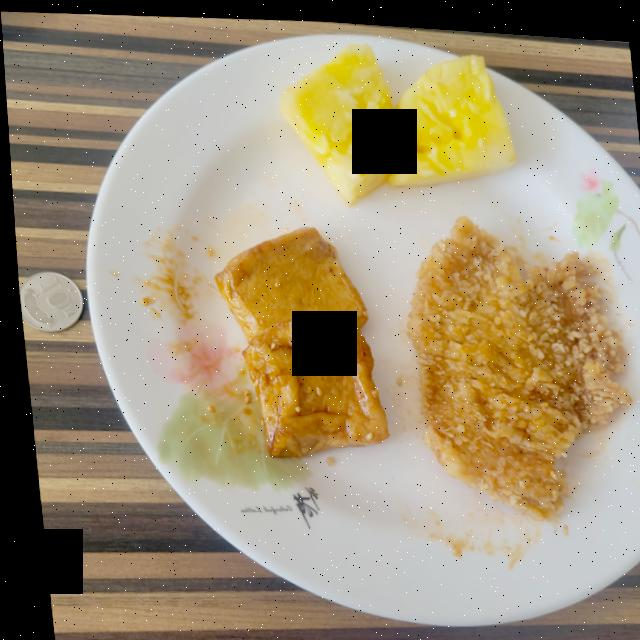coin: (15, 271, 77, 331)
creamy tofu: (210, 223, 381, 455)
fried chicken cutlet: (402, 210, 625, 512)
pineapple: (277, 38, 511, 200)
